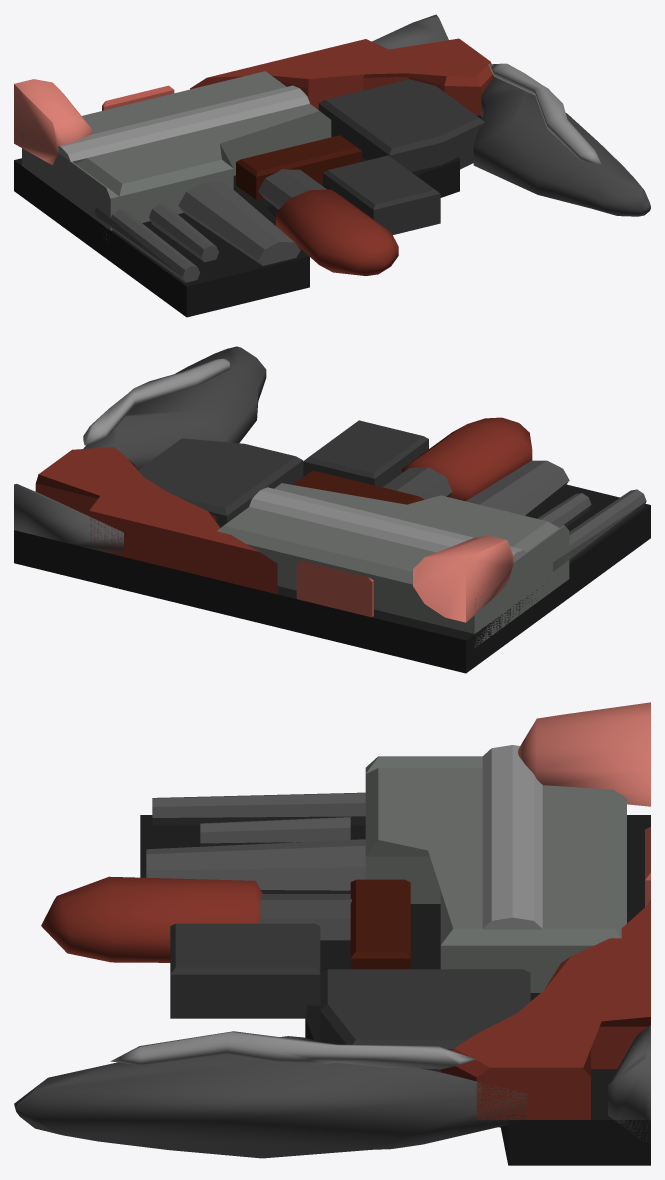
The model's file is newsh-caret-125.glb.
3 views of the same model, one above another, from view 1: azimuth 30°, elevation 25°; view 2: azimuth 150°, elevation 25°; view 3: azimuth 270°, elevation 25° (orthographic). The views are drawn at different scales.
Visible parts, largest first — view 1: newsh-caret-125; view 2: newsh-caret-125; view 3: newsh-caret-125.
Boxes of the visible parts, left/top/right/bottom form: newsh-caret-125: left=14, top=14, right=650, bottom=317; newsh-caret-125: left=14, top=346, right=650, bottom=673; newsh-caret-125: left=14, top=702, right=650, bottom=1165.
Size of the model in its own units: 2 by 0.4852 by 1.77.
